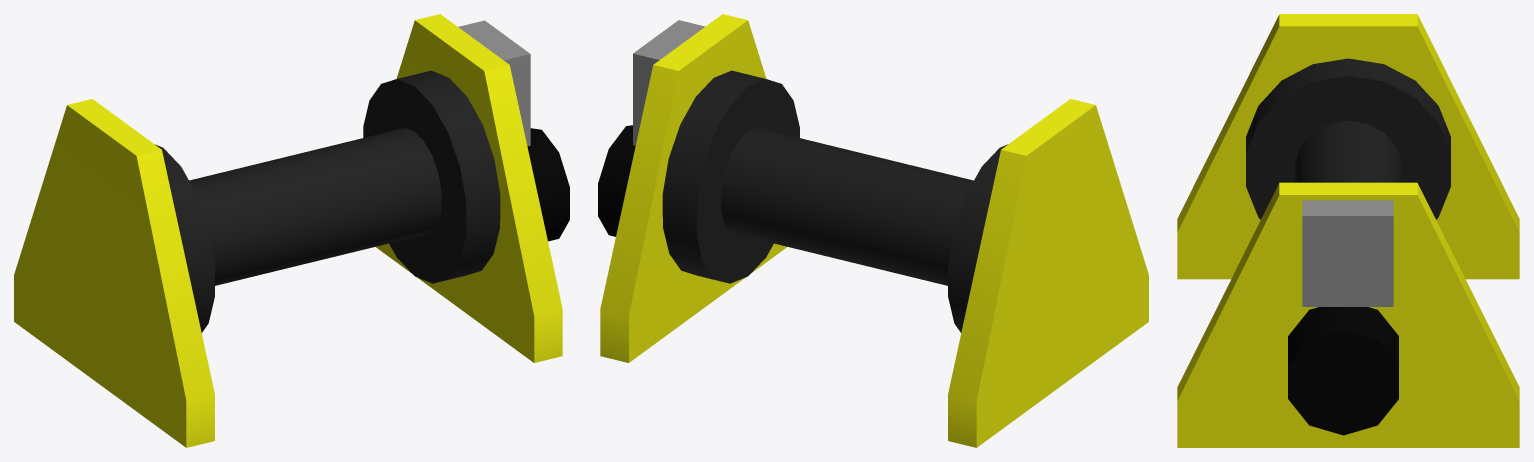
Rendered from winch.fbx.
The picture shows the model from 3 angles, left to right: view 1: azimuth 30°, elevation 25°; view 2: azimuth 150°, elevation 25°; view 3: azimuth 270°, elevation 25°; orthographic projection.
Parts seen in each view (by area): view 1: Cylinder001, Box001, Box002, Cylinder002, Box003; view 2: Cylinder001, Box001, Box002, Cylinder002, Box003; view 3: Box002, Box001, Cylinder001, Cylinder002, Box003.
Part boxes in pixels (bbox=[...]): Cylinder001: bbox=[155, 70, 500, 332]; Box001: bbox=[14, 99, 214, 447]; Box002: bbox=[375, 14, 562, 362]; Cylinder002: bbox=[527, 128, 569, 241]; Box003: bbox=[458, 20, 530, 146]; Cylinder001: bbox=[662, 70, 1008, 332]; Box001: bbox=[948, 99, 1148, 447]; Box002: bbox=[600, 14, 787, 362]; Cylinder002: bbox=[598, 125, 635, 236]; Box003: bbox=[633, 20, 705, 145]; Box002: bbox=[1177, 182, 1519, 447]; Box001: bbox=[1177, 14, 1519, 279]; Cylinder001: bbox=[1246, 58, 1450, 219]; Cylinder002: bbox=[1288, 307, 1398, 435]; Box003: bbox=[1302, 200, 1393, 306].
Bounding box in the file's own units: 113 × 62.59 × 76.95.
